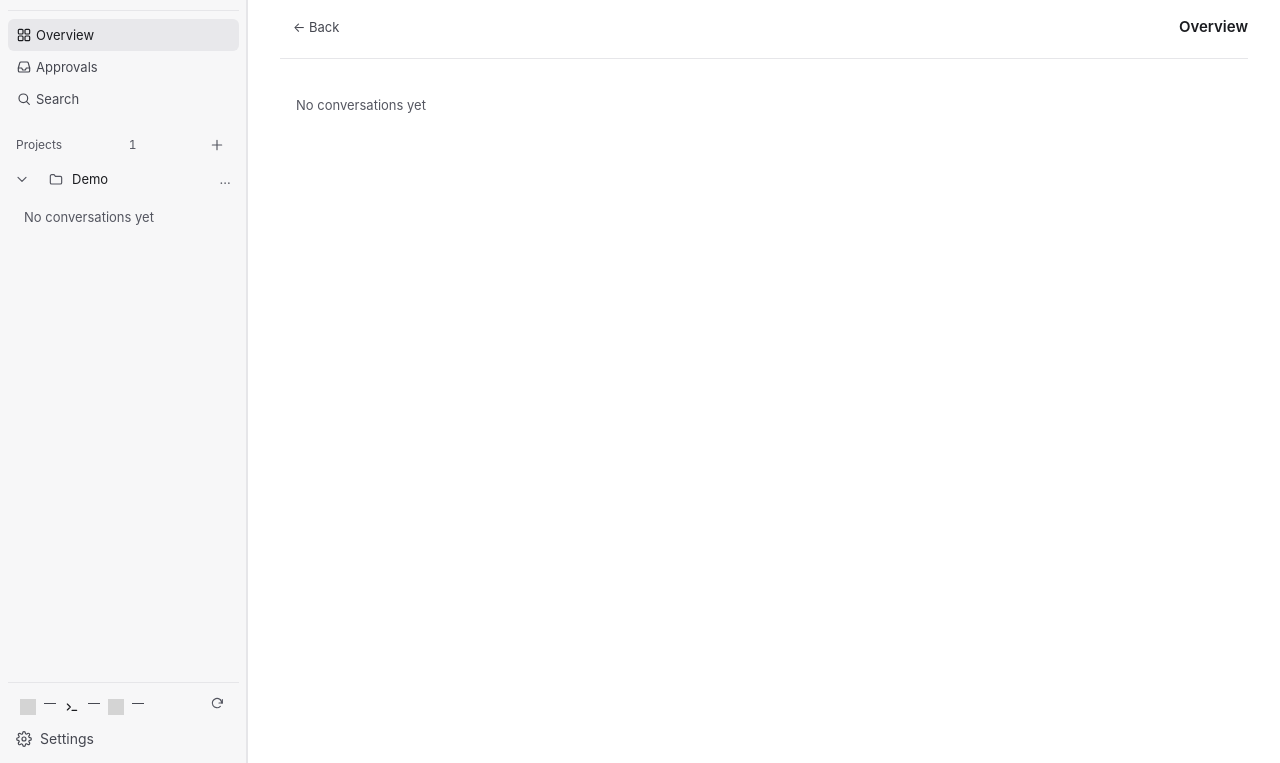
Scenario: adds a project without starting a conversation in en
Click the button named "Add project" at (217, 145), box [203,131,231,159]
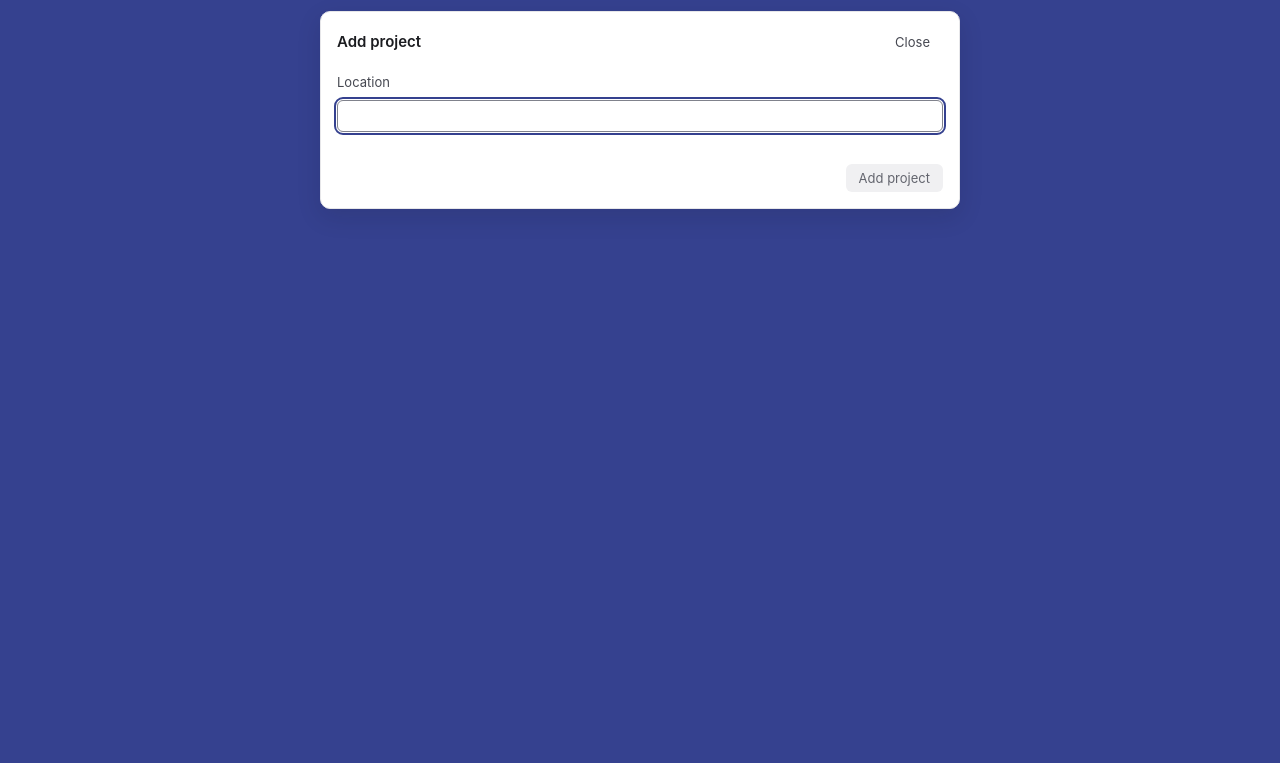
Type "~/demo" into the field labelled "Location" at (640, 116), box [337,100,943,132]
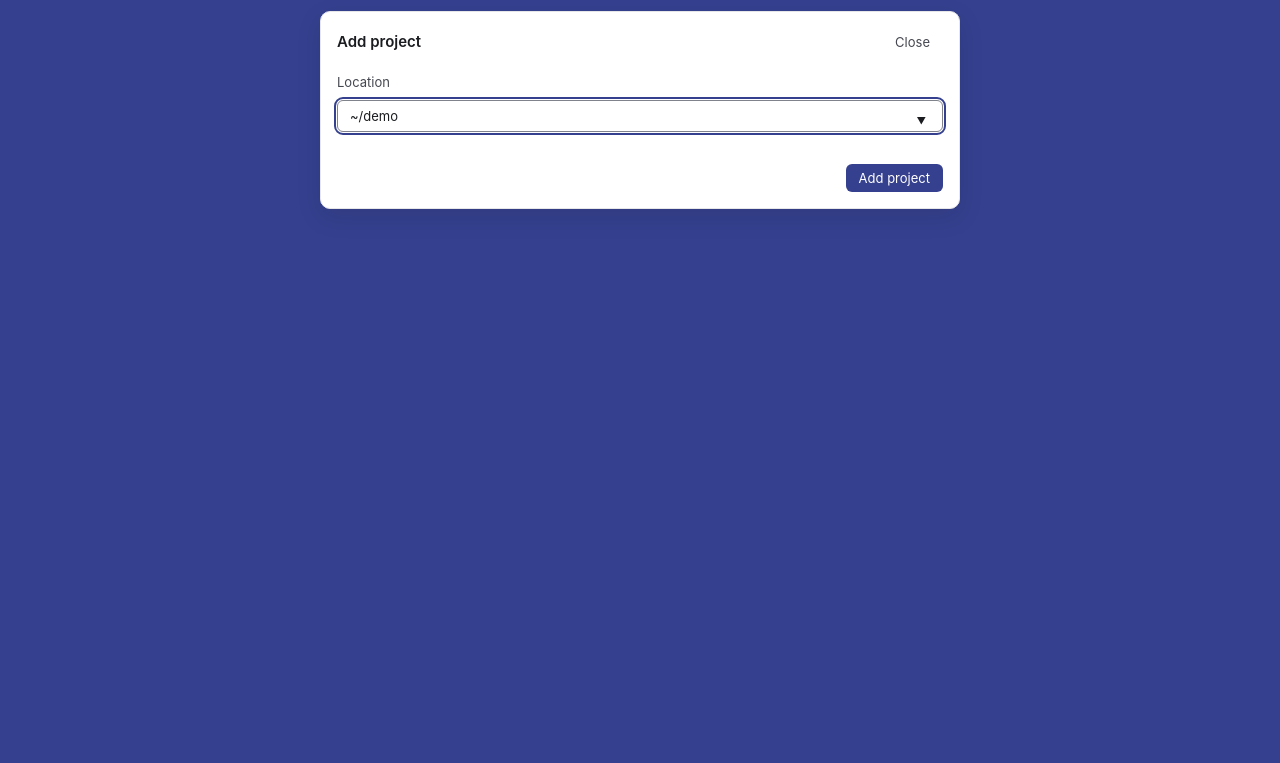
Submit the form, box [337,56,943,192]
(page scrolled)
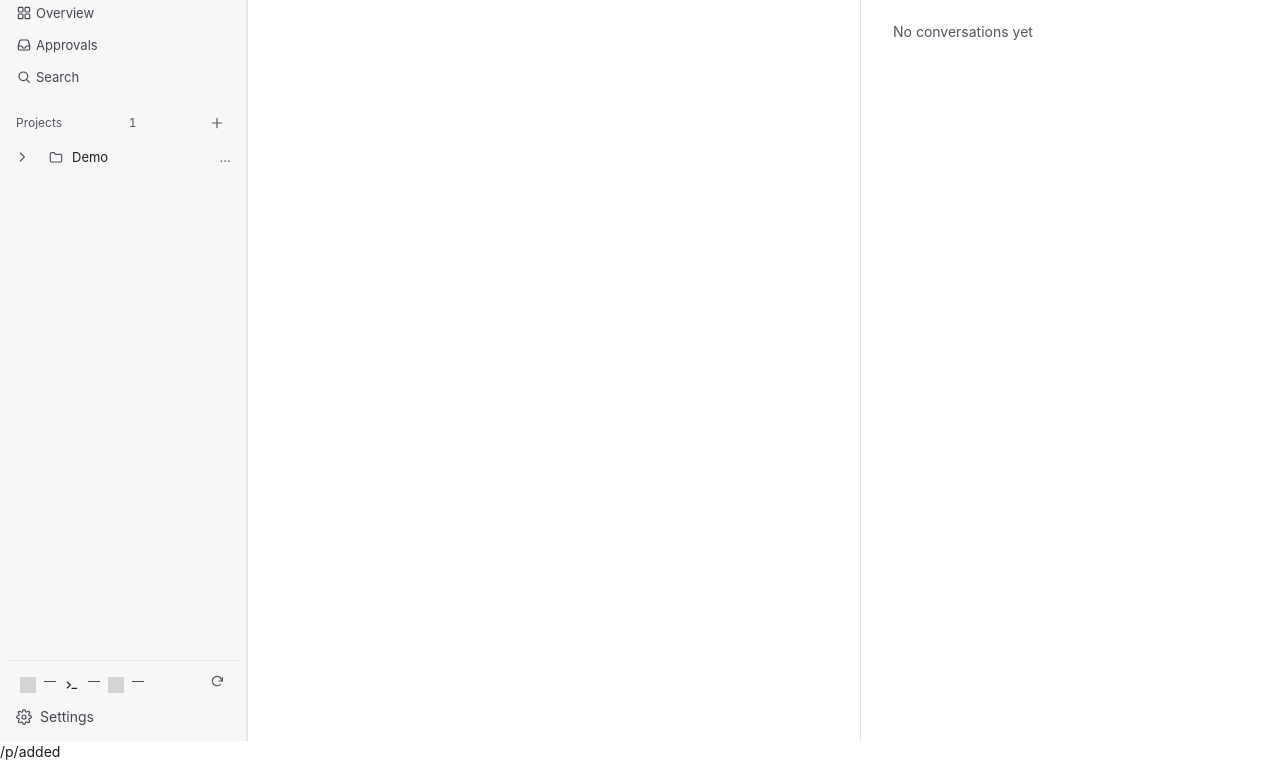
Now the text with test id "route" reads "/p/added", box [0,743,60,760]
